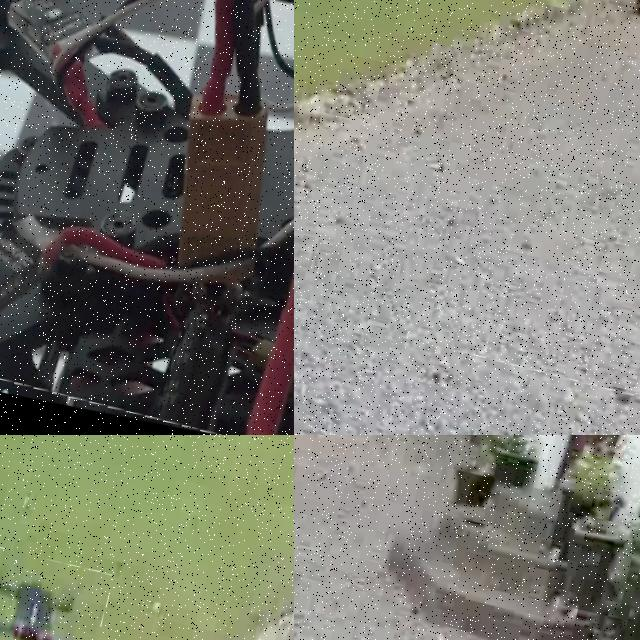drone: (0, 0, 294, 435), (294, 278, 640, 435), (0, 541, 112, 640)
